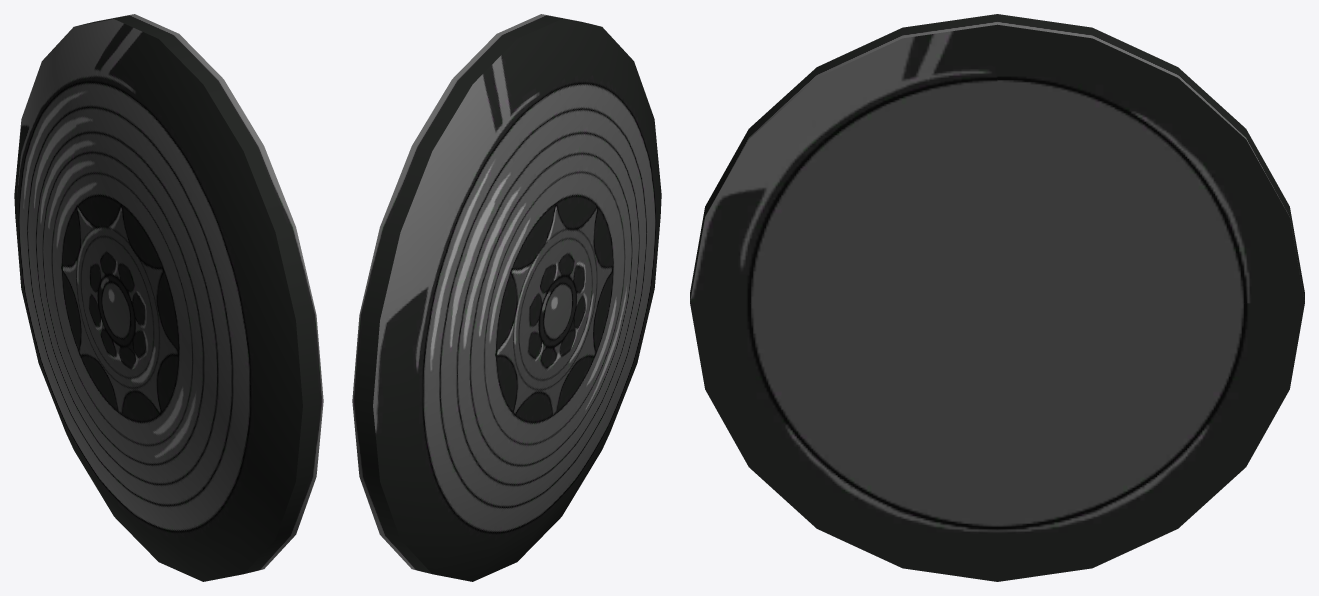
The model's file is Boss_100_DivineMirror.fbx.
3 views of the same model, side by side, from view 1: azimuth 30°, elevation 25°; view 2: azimuth 150°, elevation 25°; view 3: azimuth 270°, elevation 25° (orthographic). The views are drawn at different scales.
Visible parts, largest first — view 1: Model; view 2: Model; view 3: Model.
Boxes of the visible parts, left/top/right/bottom form: Model: left=14, top=14, right=323, bottom=581; Model: left=352, top=14, right=661, bottom=581; Model: left=690, top=14, right=1304, bottom=581.
Size of the model in its own units: 0.0952 by 0.7491 by 0.7491.
1 material, 1 textured.
